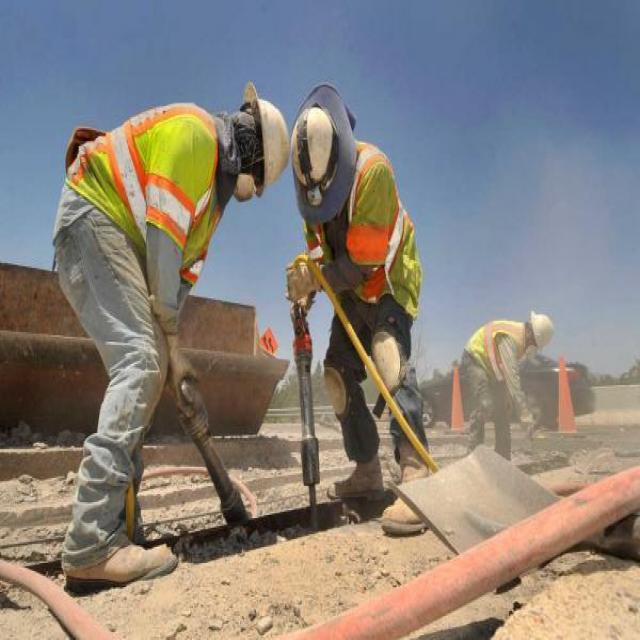Reflective-Jacket: (52, 95, 227, 306), (290, 141, 431, 329), (458, 306, 530, 371)
Safety-Helmet: (246, 88, 292, 193), (519, 298, 560, 361)
